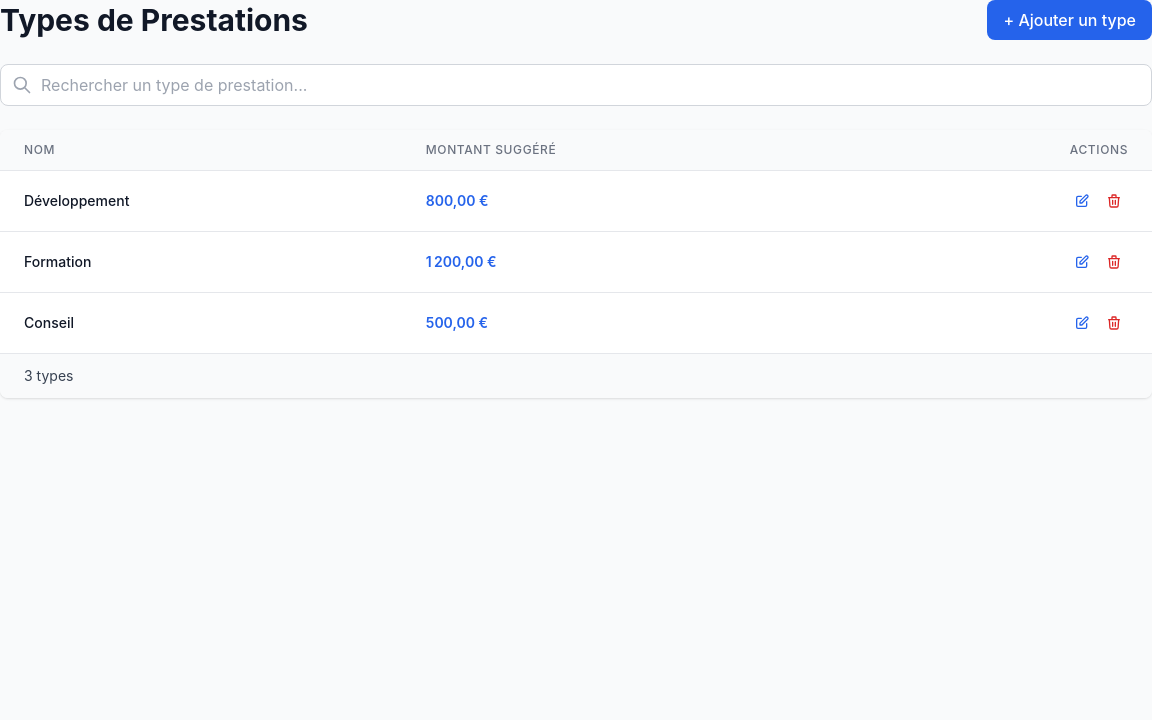
TypesPrestations page › opens add modal with correct title when clicking add button
Click the button "+ Ajouter un type".
click(1070, 20)  # box [988, 0, 1151, 40]
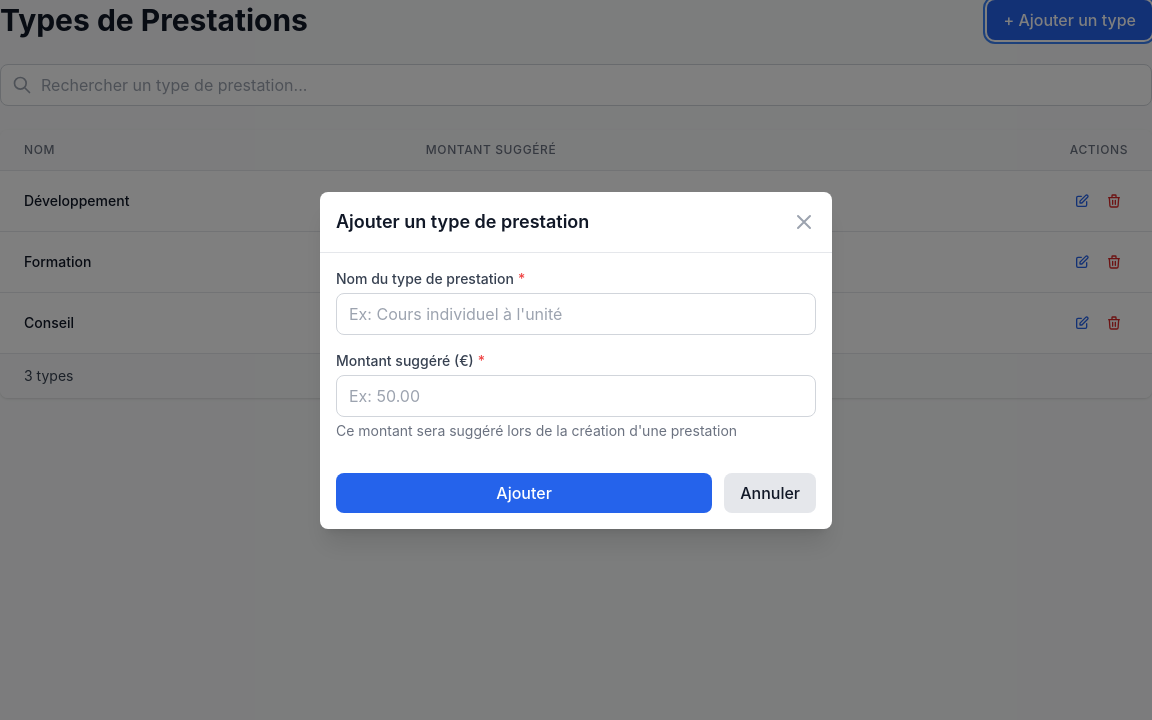
Now the heading "Ajouter un type de prestation" is shown, box [336, 208, 589, 236]
